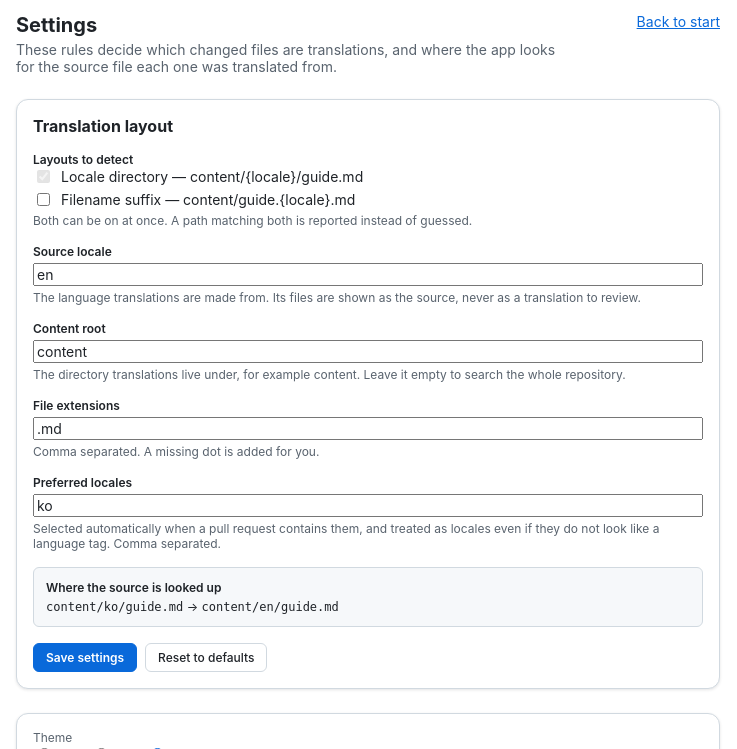
Scenario: SettingsScreen › saves a changed content root and source locale
Type "docs/i18n" into the field labelled "Content root".
click(368, 352); type("docs/i18n")  # box [33,340,703,363]
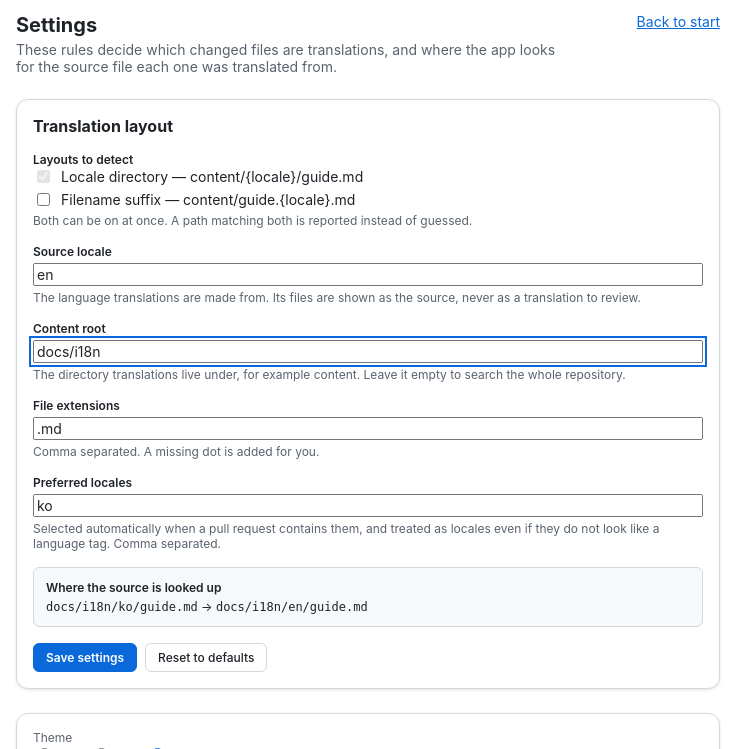
Replace the text in the field labelled "Source locale" with "ja" at (368, 274), box [33,263,703,286]
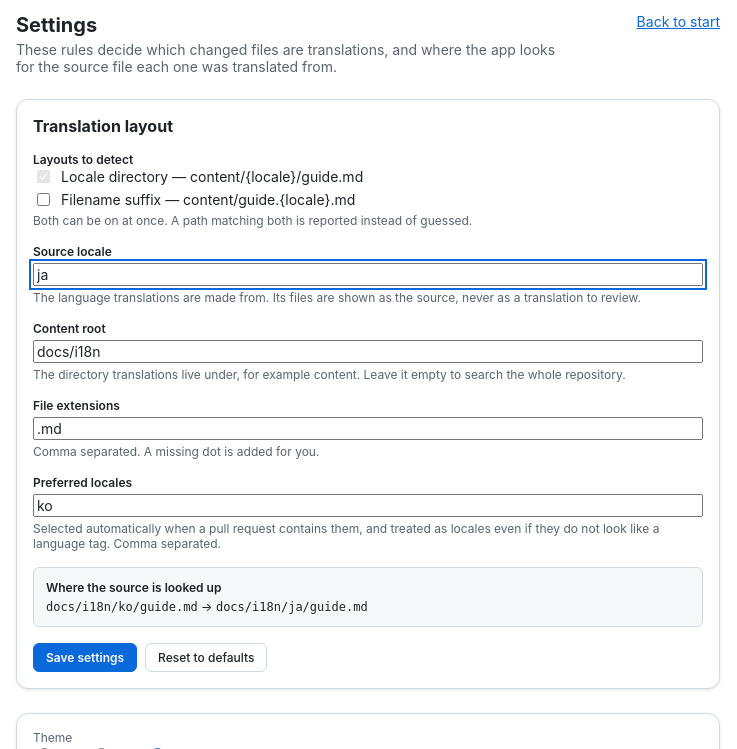
Click the button "Save settings".
click(85, 658)  # box [33,643,137,672]
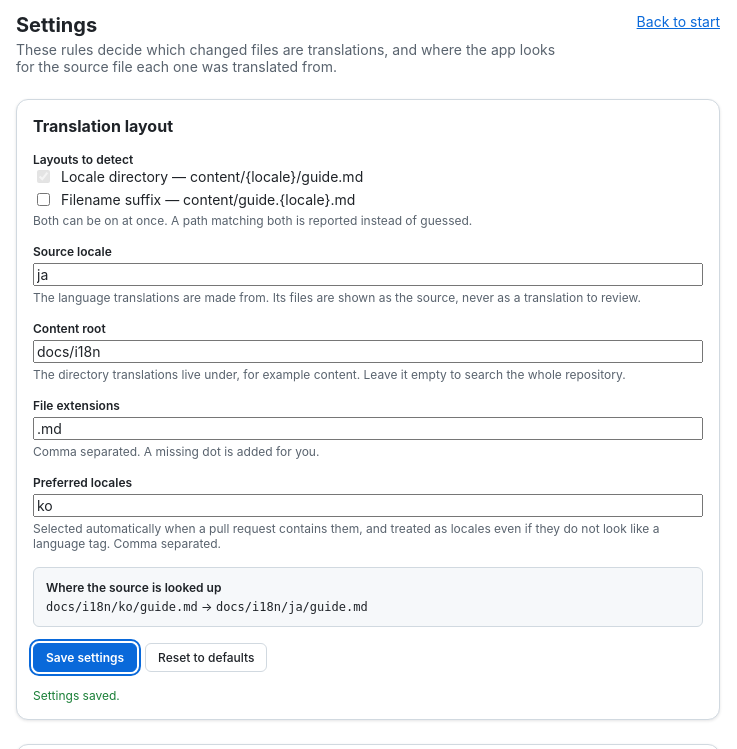
Expected: the message shows "Settings saved", [33,688,120,703]
